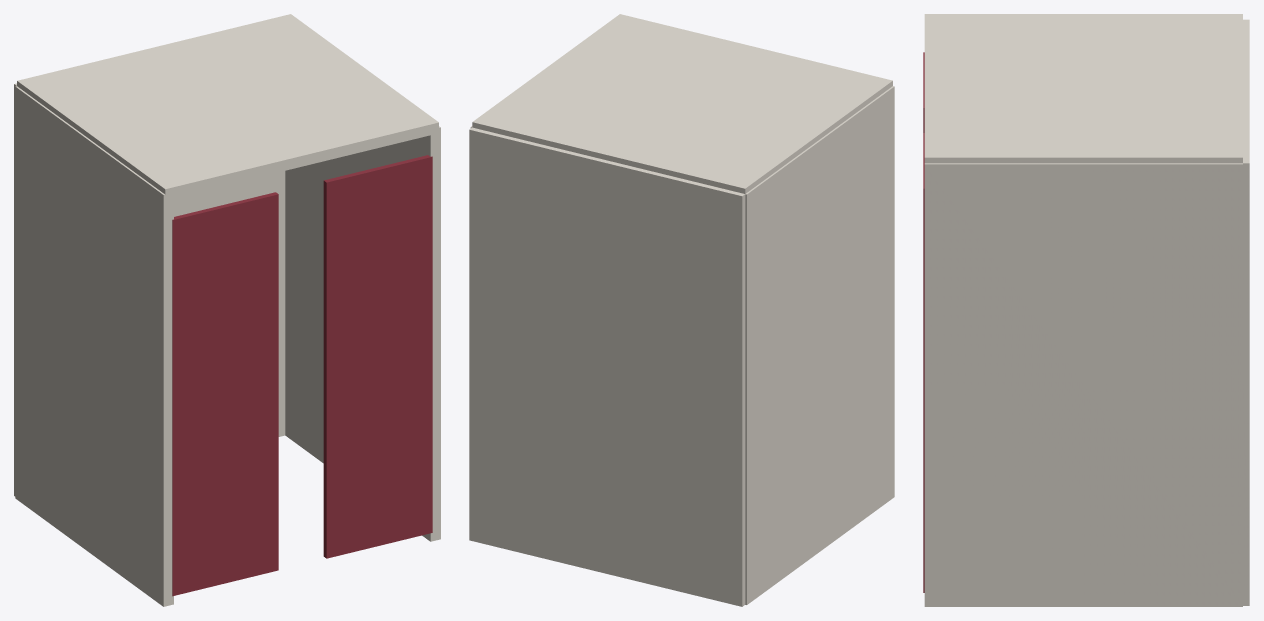
Rendered from fitting_booth.glb.
3 renders of one model, left to right at view 1: azimuth 30°, elevation 25°; view 2: azimuth 150°, elevation 25°; view 3: azimuth 270°, elevation 25°, orthographic. The views are drawn at different scales.
Visible parts, largest first — view 1: laminate, velvet; view 2: laminate; view 3: laminate, velvet.
Part boxes in pixels (x1=…): laminate: x1=14, y1=14, x2=440, y2=606; velvet: x1=172, y1=155, x2=432, y2=596; laminate: x1=469, y1=14, x2=894, y2=606; laminate: x1=924, y1=14, x2=1249, y2=606; velvet: x1=923, y1=52, x2=924, y2=592.
Bounding box in the file's own units: 1.62 × 2.33 × 1.54.
